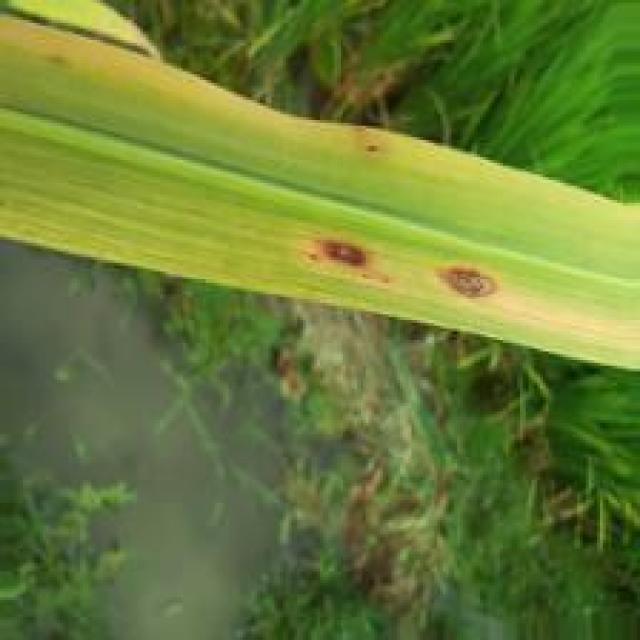Brown_Spot: (433, 265, 505, 306), (312, 236, 376, 279)
